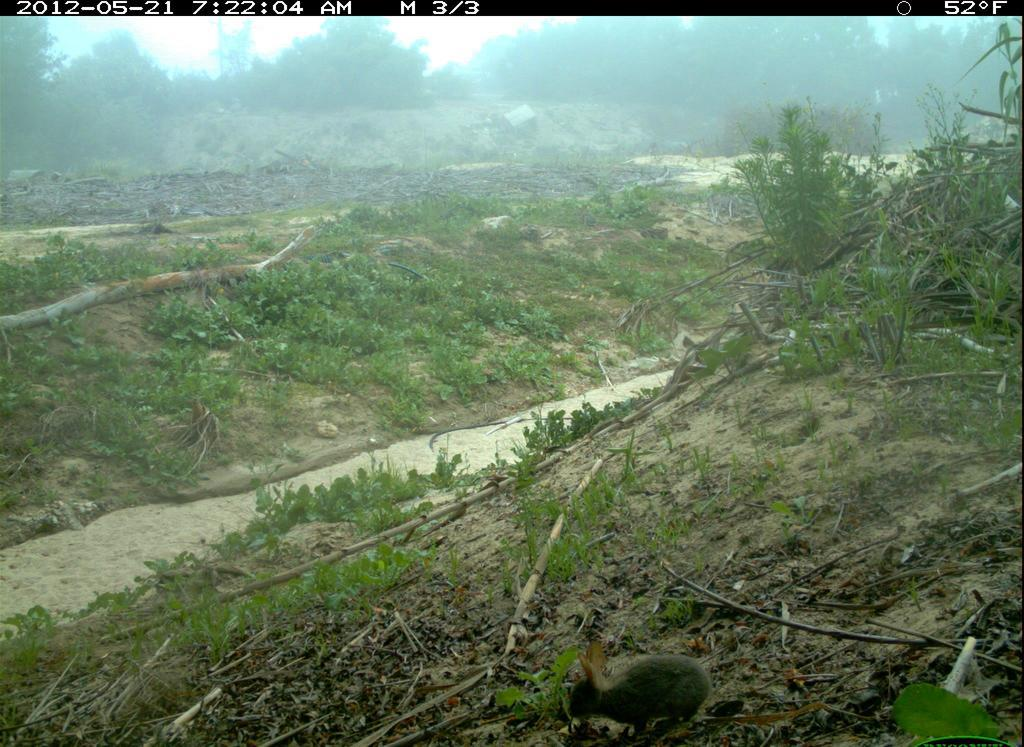rabbit: (559, 632, 717, 745)
